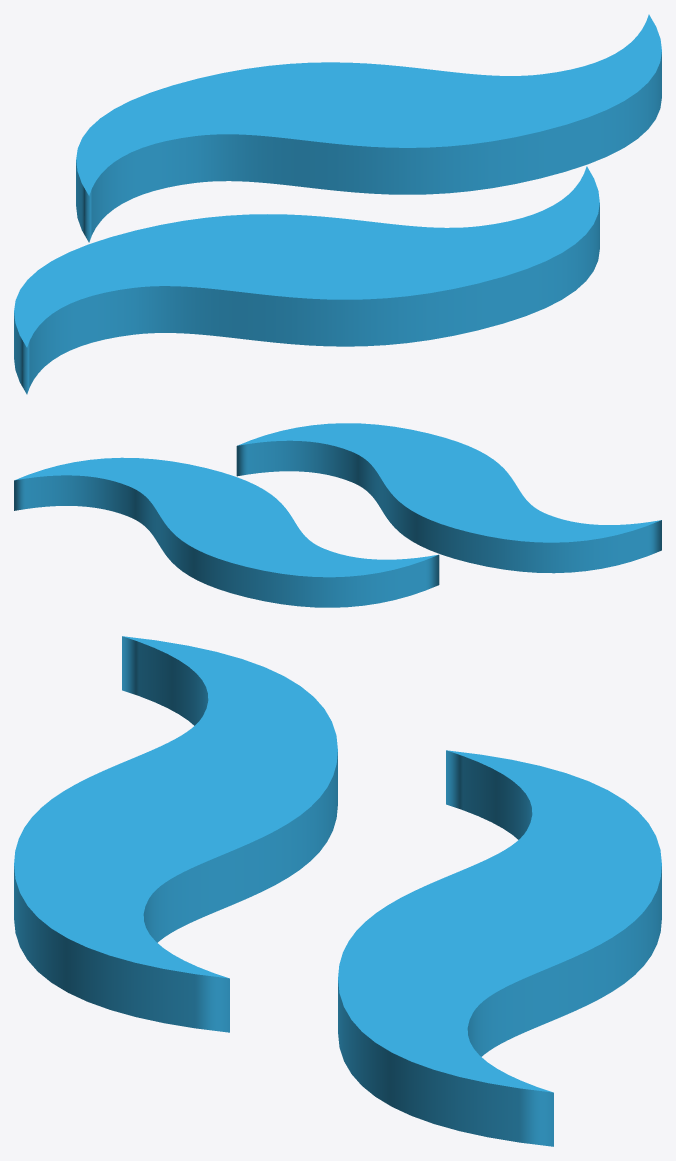
The model's file is tailwind.glb.
The picture shows the model from 3 angles, top to bottom: view 1: azimuth 30°, elevation 25°; view 2: azimuth 150°, elevation 25°; view 3: azimuth 270°, elevation 25°; orthographic projection. The views are drawn at different scales.
Visible parts, largest first — view 1: Curve.003; view 2: Curve.003; view 3: Curve.003.
Boxes of the visible parts, x1,y1,x2,y2 form: Curve.003: [14, 14, 661, 394]; Curve.003: [14, 423, 661, 607]; Curve.003: [14, 636, 661, 1146].
Size of the model in its own units: 3.35 by 0.1855 by 2.01.
